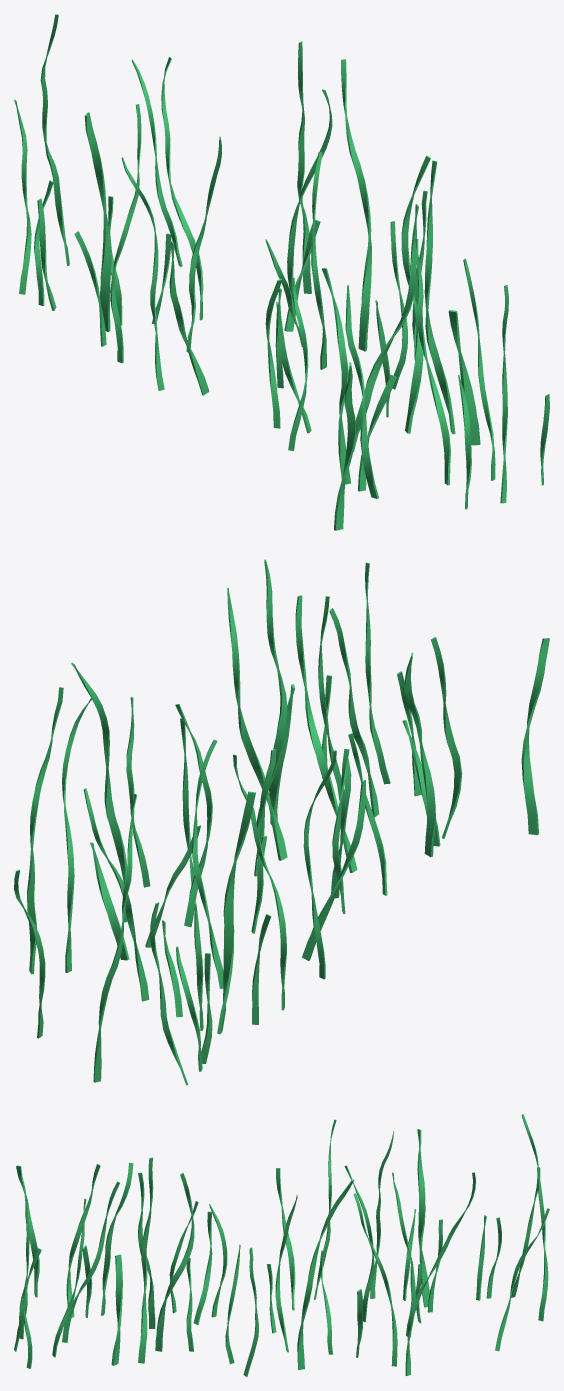
The model's file is coral_seaweed_A_medium.fbx.
The picture shows the model from 3 angles, top to bottom: view 1: azimuth 30°, elevation 25°; view 2: azimuth 150°, elevation 25°; view 3: azimuth 270°, elevation 25°; orthographic projection. The views are drawn at different scales.
Parts seen in each view (by area): view 1: coral_seaweed_A_medium; view 2: coral_seaweed_A_medium; view 3: coral_seaweed_A_medium.
Boxes of the visible parts, x1,y1,x2,y2 form: coral_seaweed_A_medium: (14, 14, 549, 530); coral_seaweed_A_medium: (14, 559, 549, 1085); coral_seaweed_A_medium: (14, 1114, 549, 1376).
Size of the model in its own units: 255 by 265 by 637.
